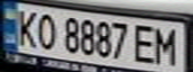7: (109, 19, 133, 61)
8: (57, 14, 81, 54), (93, 18, 115, 58), (78, 16, 96, 56)
E: (130, 21, 160, 64)
K: (12, 6, 42, 48)
M: (151, 25, 184, 66)
O: (33, 10, 60, 51)
